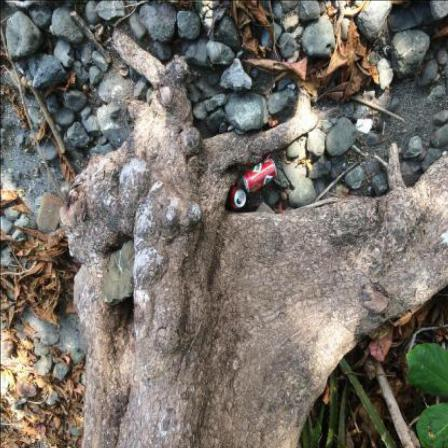Can: (244, 159, 278, 194), (226, 187, 246, 210)
Pop tab: (239, 193, 243, 201), (247, 182, 248, 191)
